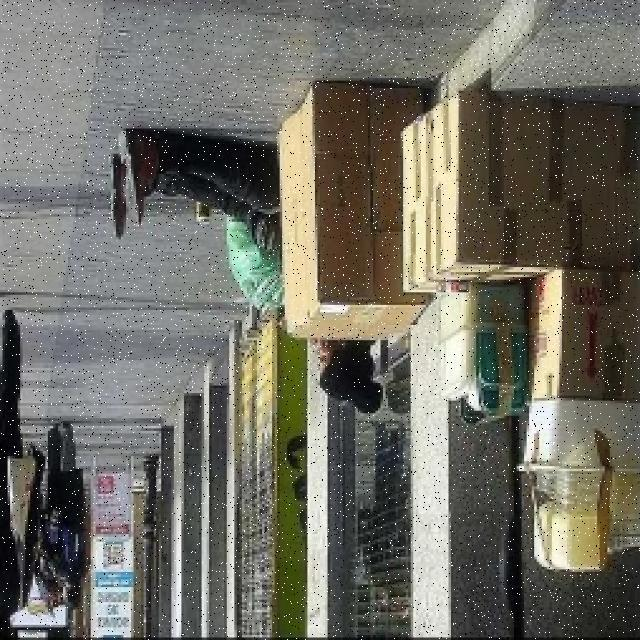box: (398, 58, 640, 298), (284, 76, 430, 329), (534, 265, 640, 408)
